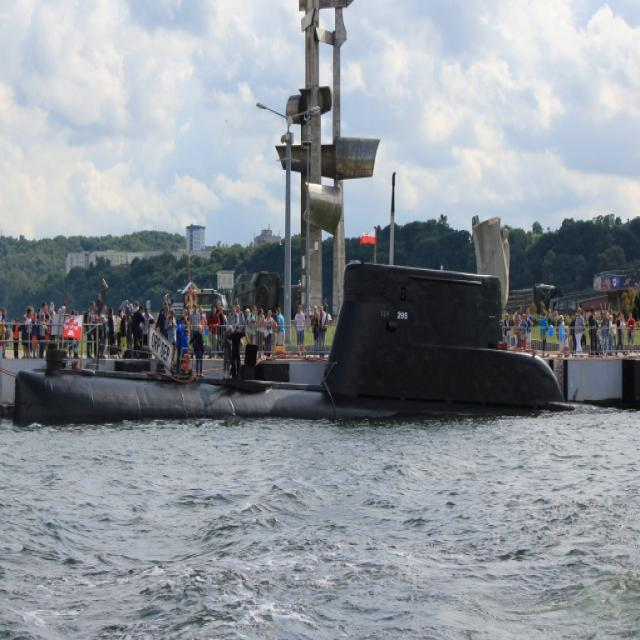submarine: (14, 262, 596, 425)
